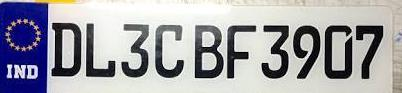0: (321, 23, 355, 79)
3: (118, 21, 150, 78), (260, 22, 289, 80)
7: (353, 20, 385, 81)
9: (291, 23, 321, 80)
B: (192, 23, 224, 79)
C: (152, 22, 185, 78)
D: (49, 20, 82, 78)
F: (224, 22, 257, 81)
L: (83, 20, 118, 77)
